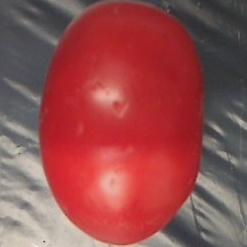unripe: (27, 0, 211, 247)
